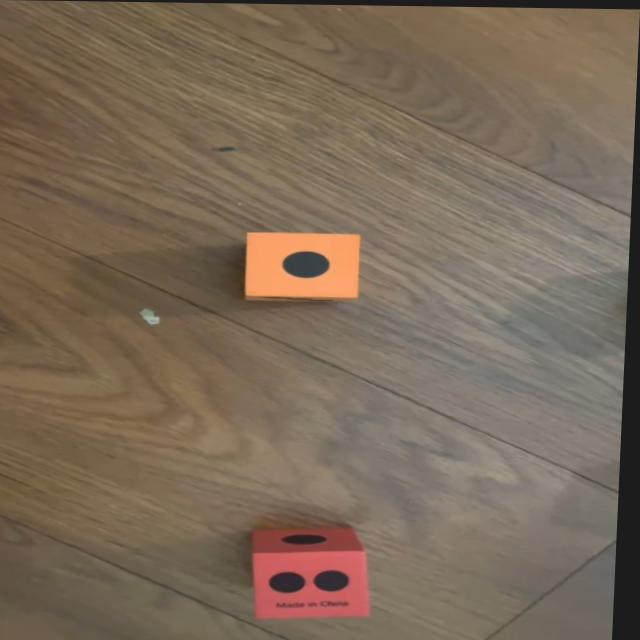red_block: (253, 522, 380, 617)
